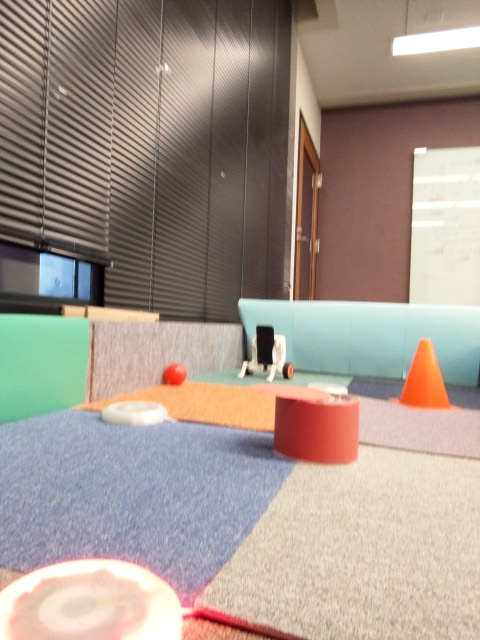f: (231, 321, 295, 385)
o: (99, 393, 170, 430), (304, 379, 351, 398)
r: (1, 553, 187, 640)
